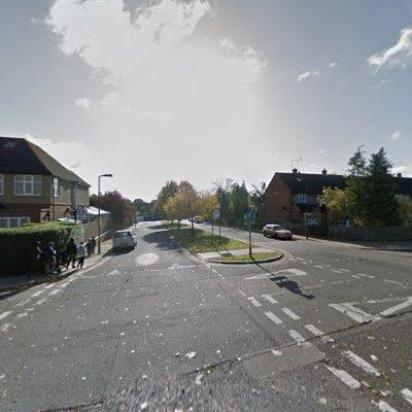moving-car: (262, 223, 293, 239)
stationary-car-onstreet: (112, 229, 136, 252)
stationary-light-truck-onstreet: (194, 214, 204, 224)
